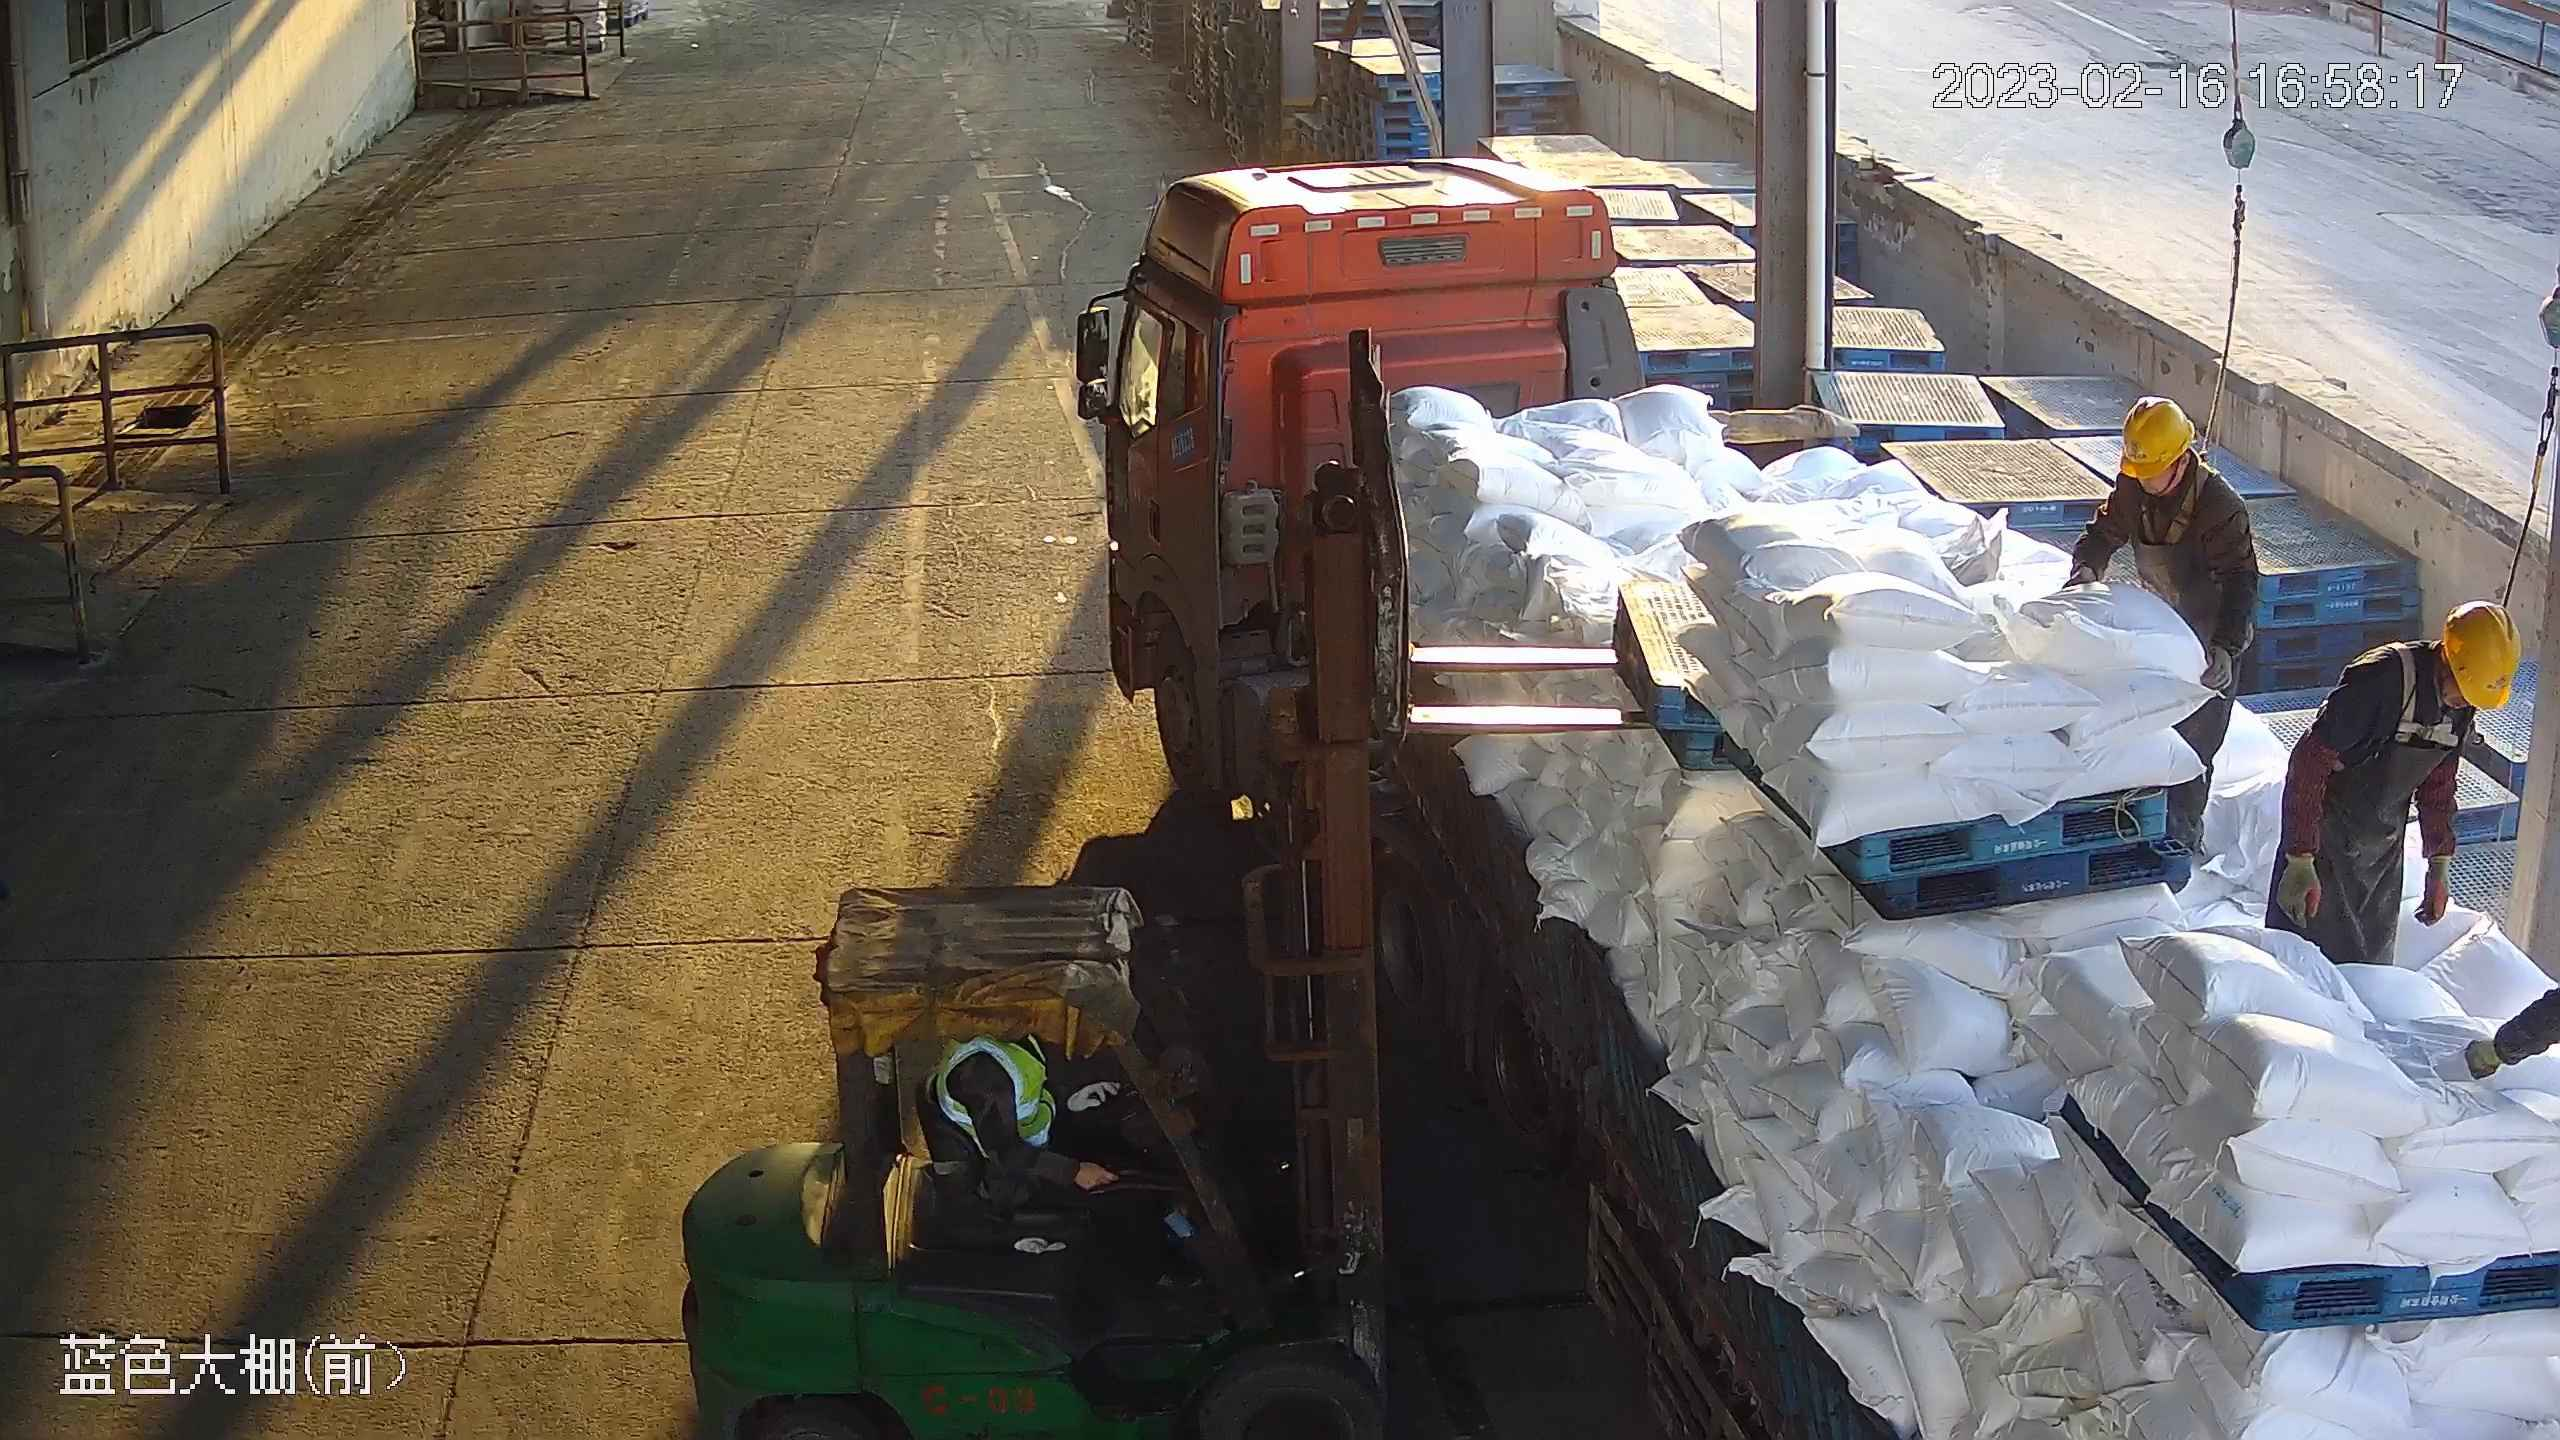belt: (2370, 644, 2467, 744), (2133, 487, 2219, 543)
head: (2353, 602, 2520, 746), (2107, 397, 2235, 529)
helmet: (2442, 602, 2532, 711), (2111, 392, 2193, 476)
people: (2279, 601, 2527, 972), (2074, 395, 2262, 871)
truck: (1070, 141, 2560, 1440)
